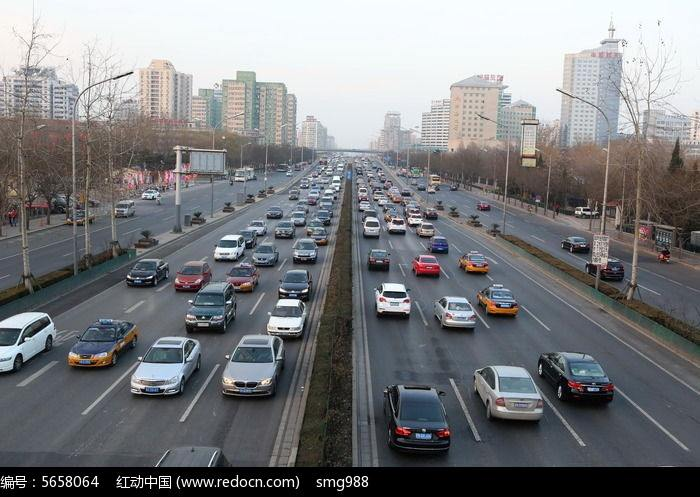car: (381, 380, 452, 455), (129, 334, 201, 396), (471, 364, 545, 423), (219, 333, 284, 397), (264, 298, 307, 337), (432, 295, 477, 329), (175, 259, 211, 292)
microbus: (1, 311, 54, 372)
suv: (372, 282, 412, 316)
truck: (361, 216, 381, 238)
